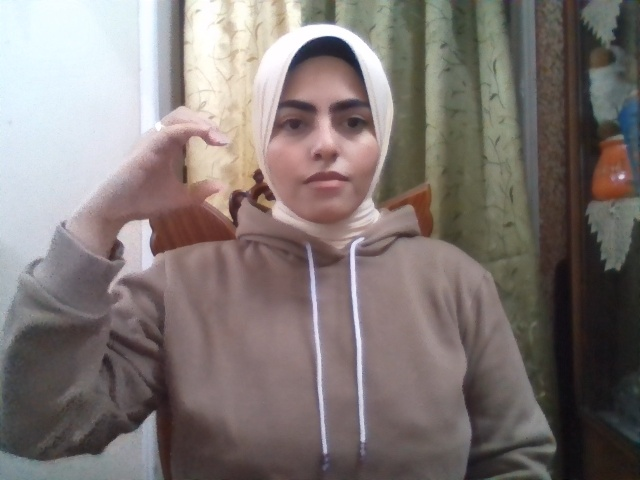C: (76, 104, 230, 240)
